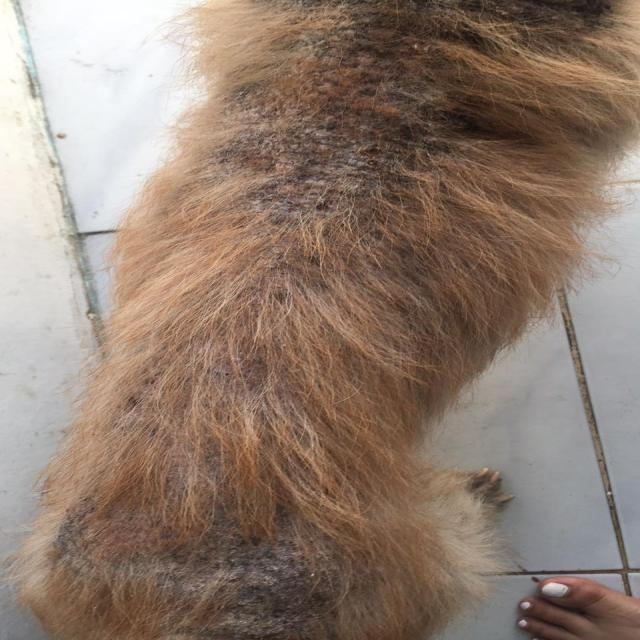demodicosis: (113, 396, 370, 634), (193, 129, 423, 330)
